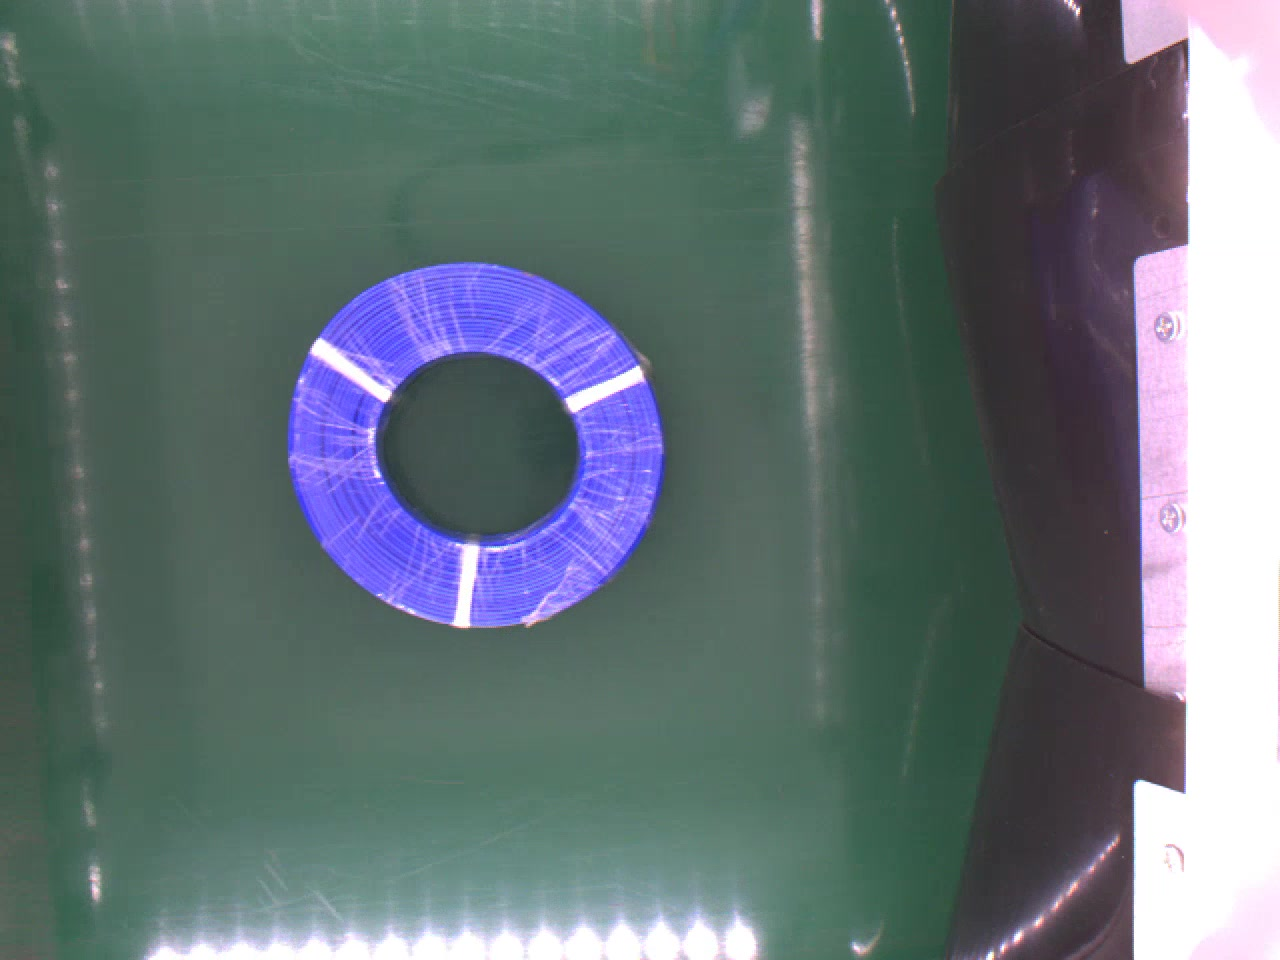blue: (280, 258, 666, 626)
